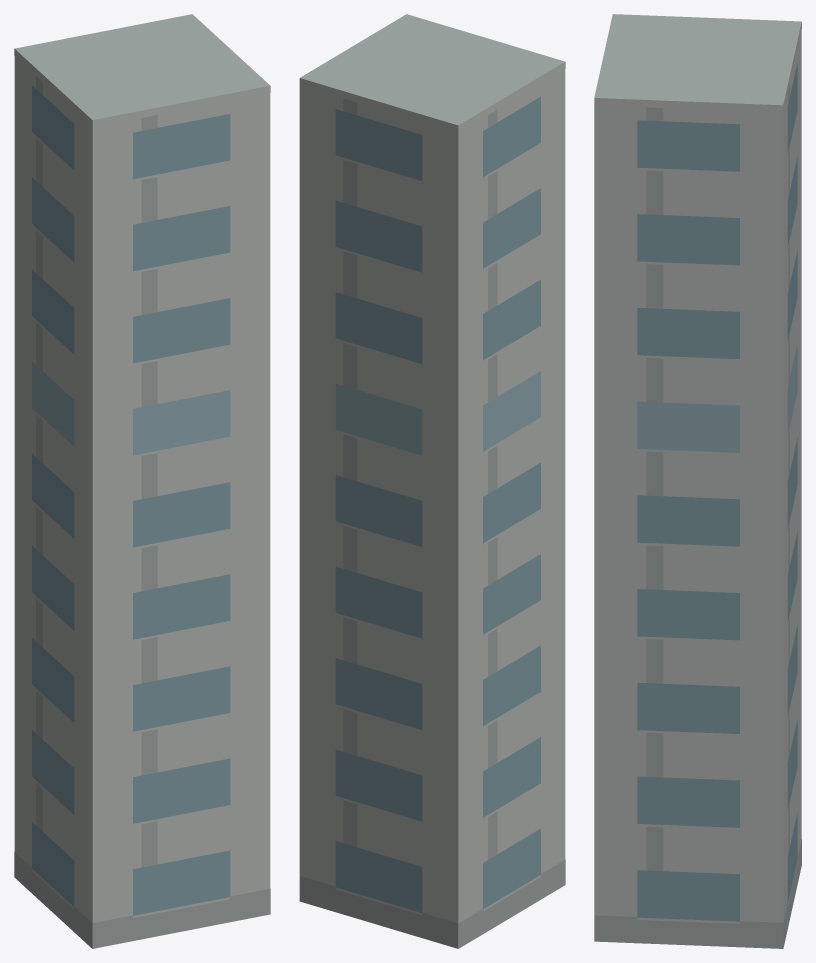
Rendered from survey-upis-32636166.glb.
The picture shows the model from 3 angles, left to right: view 1: azimuth 30°, elevation 25°; view 2: azimuth 150°, elevation 25°; view 3: azimuth 270°, elevation 25°; orthographic projection. The views are drawn at different scales.
Parts seen in each view (by area): view 1: survey-upis-32636166.tmp; view 2: survey-upis-32636166.tmp; view 3: survey-upis-32636166.tmp.
Boxes of the visible parts, bbox=[...] form: survey-upis-32636166.tmp: bbox=[14, 14, 270, 948]; survey-upis-32636166.tmp: bbox=[299, 14, 565, 948]; survey-upis-32636166.tmp: bbox=[594, 14, 801, 948].
Size of the model in its own units: 6.38 by 27.45 by 6.13.
